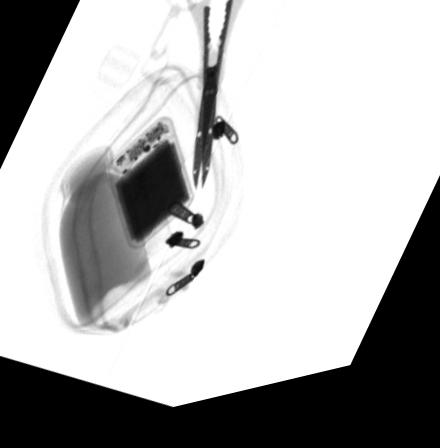Powerbank: (107, 123, 191, 255)
Scissors: (179, 0, 250, 202)
